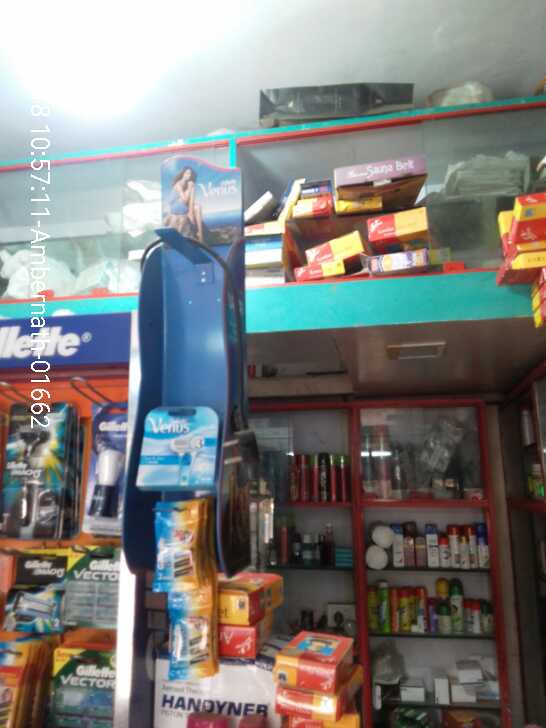beauty: (1, 400, 67, 533), (144, 503, 209, 592), (85, 413, 131, 538), (139, 410, 215, 481), (55, 648, 131, 717), (62, 544, 119, 634), (6, 550, 64, 627), (169, 594, 218, 677)
